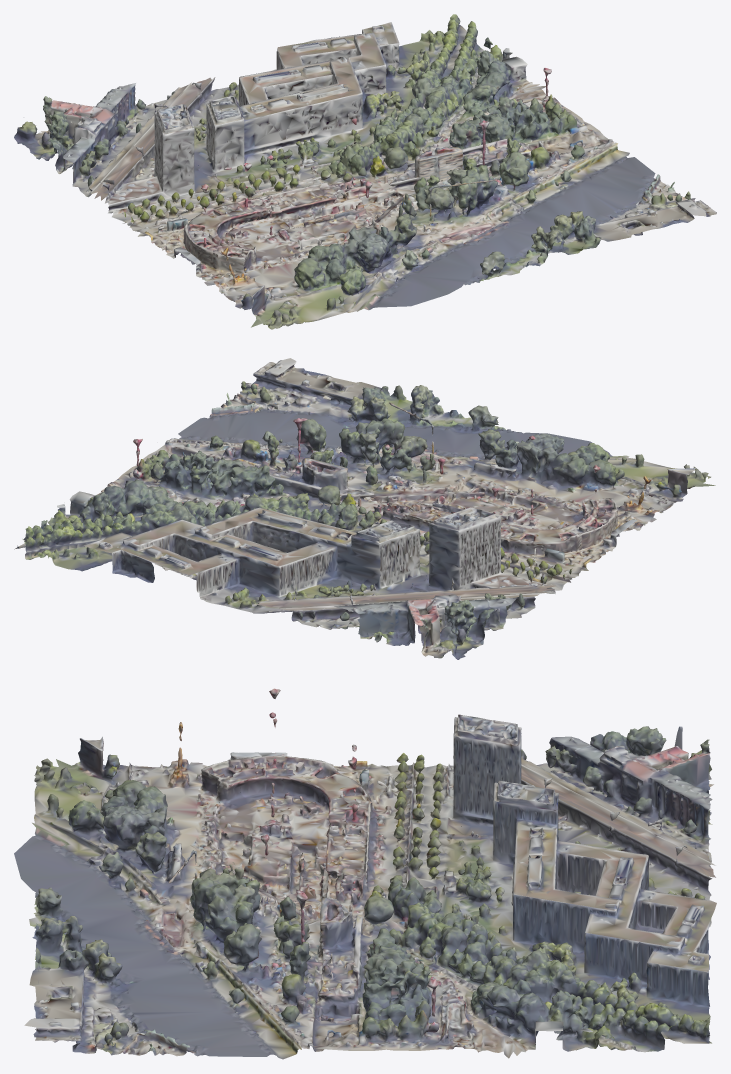
File: surface-detail-3887_58200.glb
The picture shows the model from 3 angles, top to bottom: view 1: azimuth 30°, elevation 25°; view 2: azimuth 150°, elevation 25°; view 3: azimuth 270°, elevation 25°; orthographic projection. The views are drawn at different scales.
Parts seen in each view (by area): view 1: world; view 2: world; view 3: world.
Part boxes in pixels (left/top/right/bottom): world: left=14, top=14, right=716, bottom=329; world: left=14, top=358, right=715, bottom=659; world: left=14, top=688, right=716, bottom=1059.
Bounding box in the file's own units: 380 × 73.71 × 377.
